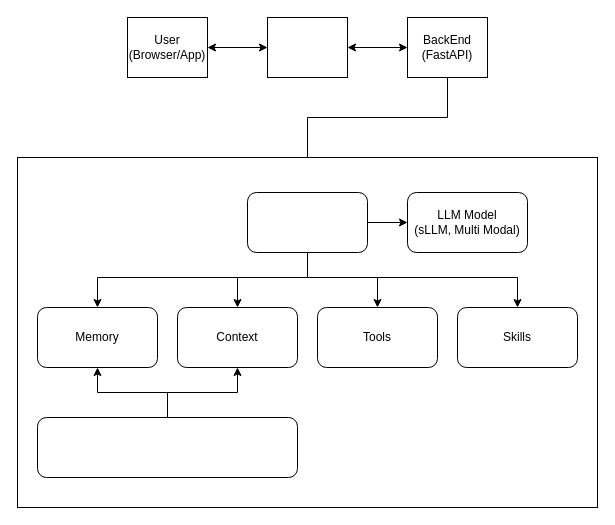
The diagram is 615 pixels wide and 525 high, and some of its shapes have lost their labels. Each missing label, with the box of its shape:
Agent (LangGraph): (246, 192, 368, 252)
FrontEnd (React): (266, 16, 348, 78)
Knowledge Base (Neo4j, PGVector): (36, 416, 298, 478)
